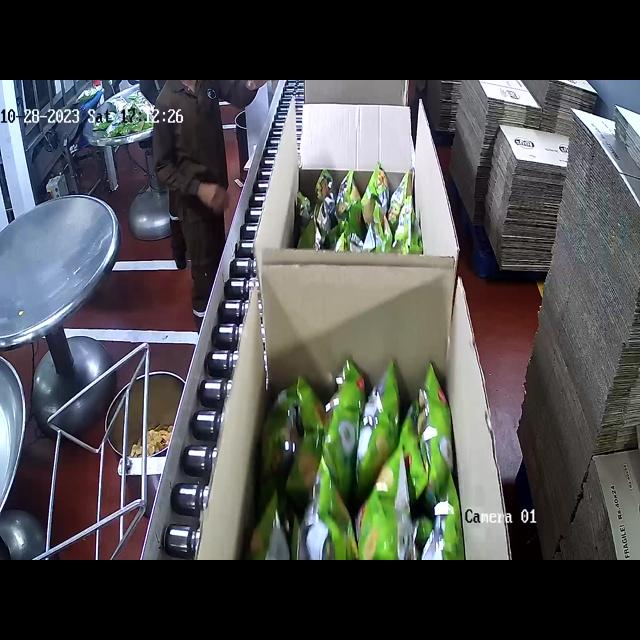yogurt: (255, 356, 465, 558), (304, 172, 423, 268)
